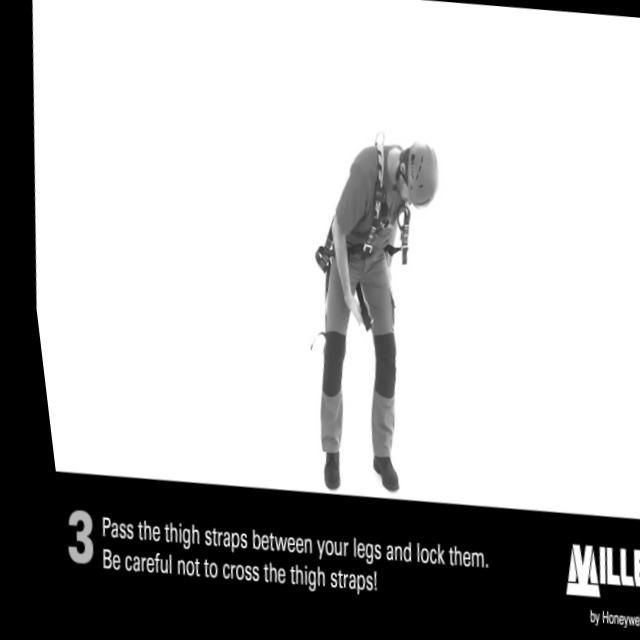belt: (283, 127, 429, 340)
